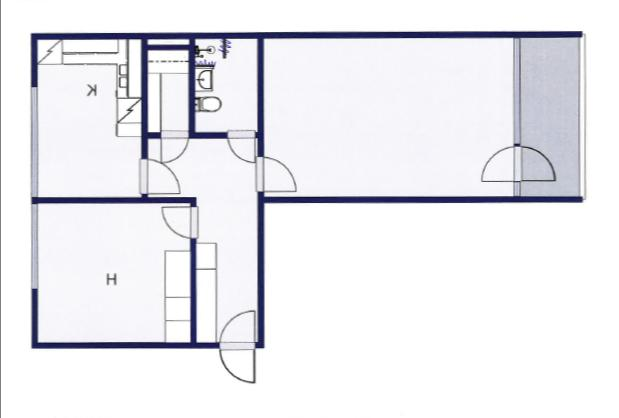bathroom: (192, 38, 258, 134)
door: (512, 144, 558, 184), (480, 142, 520, 184), (254, 155, 296, 195), (136, 159, 181, 195), (216, 342, 256, 382), (217, 308, 256, 349), (161, 204, 199, 240), (224, 128, 256, 166), (156, 129, 189, 163)
perimeter: (31, 32, 523, 350)
window: (28, 83, 42, 200), (510, 34, 522, 146), (28, 201, 39, 296), (512, 180, 522, 198)
